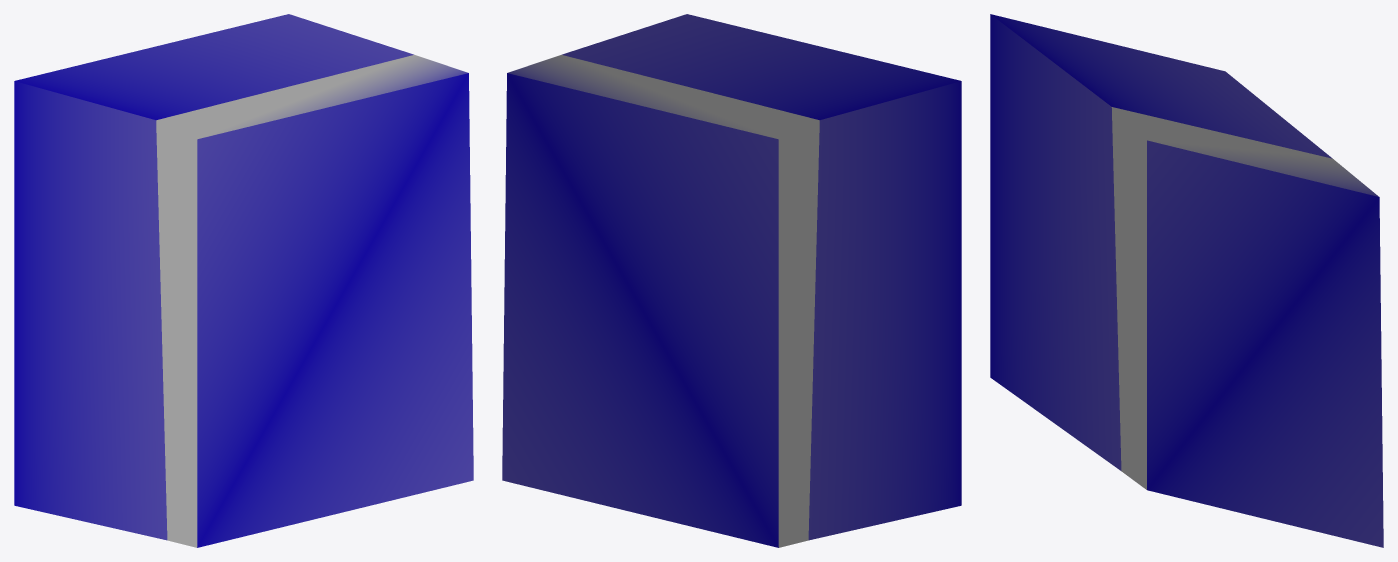
File: majiangshadow.fbx
3 renders of one model, left to right at view 1: azimuth 30°, elevation 25°; view 2: azimuth 150°, elevation 25°; view 3: azimuth 330°, elevation 25°, orthographic. The views are drawn at different scales.
Visible parts, largest first — view 1: majiangshadow; view 2: majiangshadow; view 3: majiangshadow.
Part boxes in pixels (box(x1,y1,x2,y2)): majiangshadow: box(14, 14, 473, 547); majiangshadow: box(502, 14, 961, 547); majiangshadow: box(990, 14, 1383, 547).
Size of the model in its own units: 0.0551 by 0.0586 by 0.
